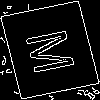M: (25, 25, 86, 77)
